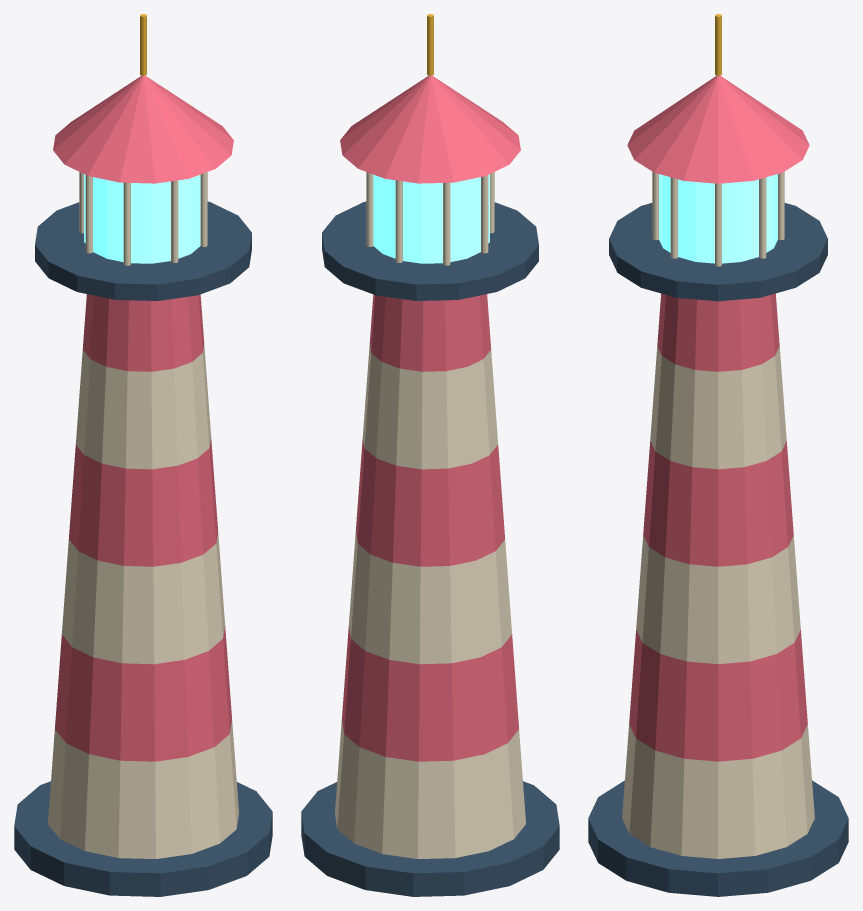
The model's file is lighthouse.glb.
3 renders of one model, left to right at view 1: azimuth 30°, elevation 25°; view 2: azimuth 150°, elevation 25°; view 3: azimuth 270°, elevation 25°, orthographic.
Visible parts, largest first — view 1: lighthouse_sunset coral, lighthouse_warm ivory, lighthouse_midnight steel, lighthouse_luminous mint; view 2: lighthouse_sunset coral, lighthouse_warm ivory, lighthouse_midnight steel, lighthouse_luminous mint; view 3: lighthouse_sunset coral, lighthouse_warm ivory, lighthouse_midnight steel, lighthouse_luminous mint.
Part boxes in pixels (x1=…): lighthouse_sunset coral: x1=53, y1=75, x2=233, y2=761; lighthouse_warm ivory: x1=48, y1=172, x2=238, y2=858; lighthouse_midnight steel: x1=14, y1=201, x2=272, y2=896; lighthouse_luminous mint: x1=84, y1=174, x2=200, y2=263; lighthouse_sunset coral: x1=340, y1=75, x2=520, y2=761; lighthouse_warm ivory: x1=335, y1=172, x2=525, y2=858; lighthouse_midnight steel: x1=301, y1=201, x2=559, y2=896; lighthouse_luminous mint: x1=373, y1=174, x2=489, y2=263; lighthouse_sunset coral: x1=627, y1=75, x2=809, y2=761; lighthouse_warm ivory: x1=622, y1=171, x2=814, y2=858; lighthouse_midnight steel: x1=588, y1=203, x2=848, y2=896; lighthouse_luminous mint: x1=659, y1=174, x2=777, y2=263.
Bounding box in the file's own units: 10 × 35 × 10.
